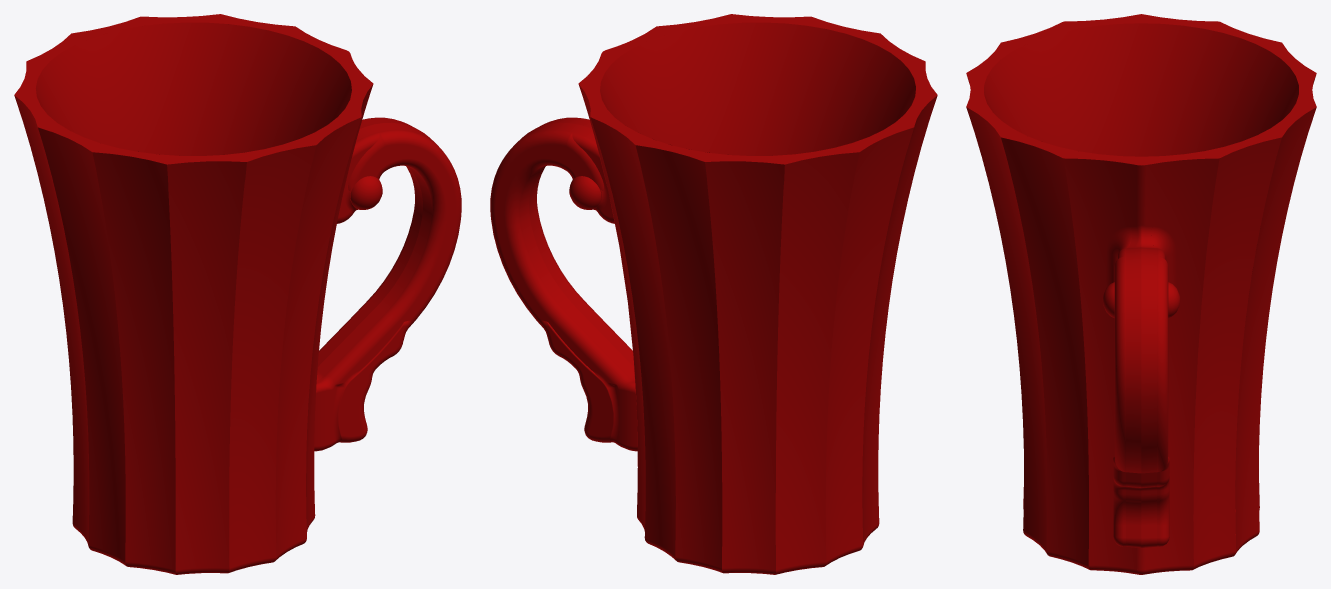
Rendered from MUG1-1.glb.
The picture shows the model from 3 angles, left to right: view 1: azimuth 30°, elevation 25°; view 2: azimuth 150°, elevation 25°; view 3: azimuth 270°, elevation 25°; orthographic projection.
Size of the model in its own units: 0.0851 by 0.0856 by 0.0622.
